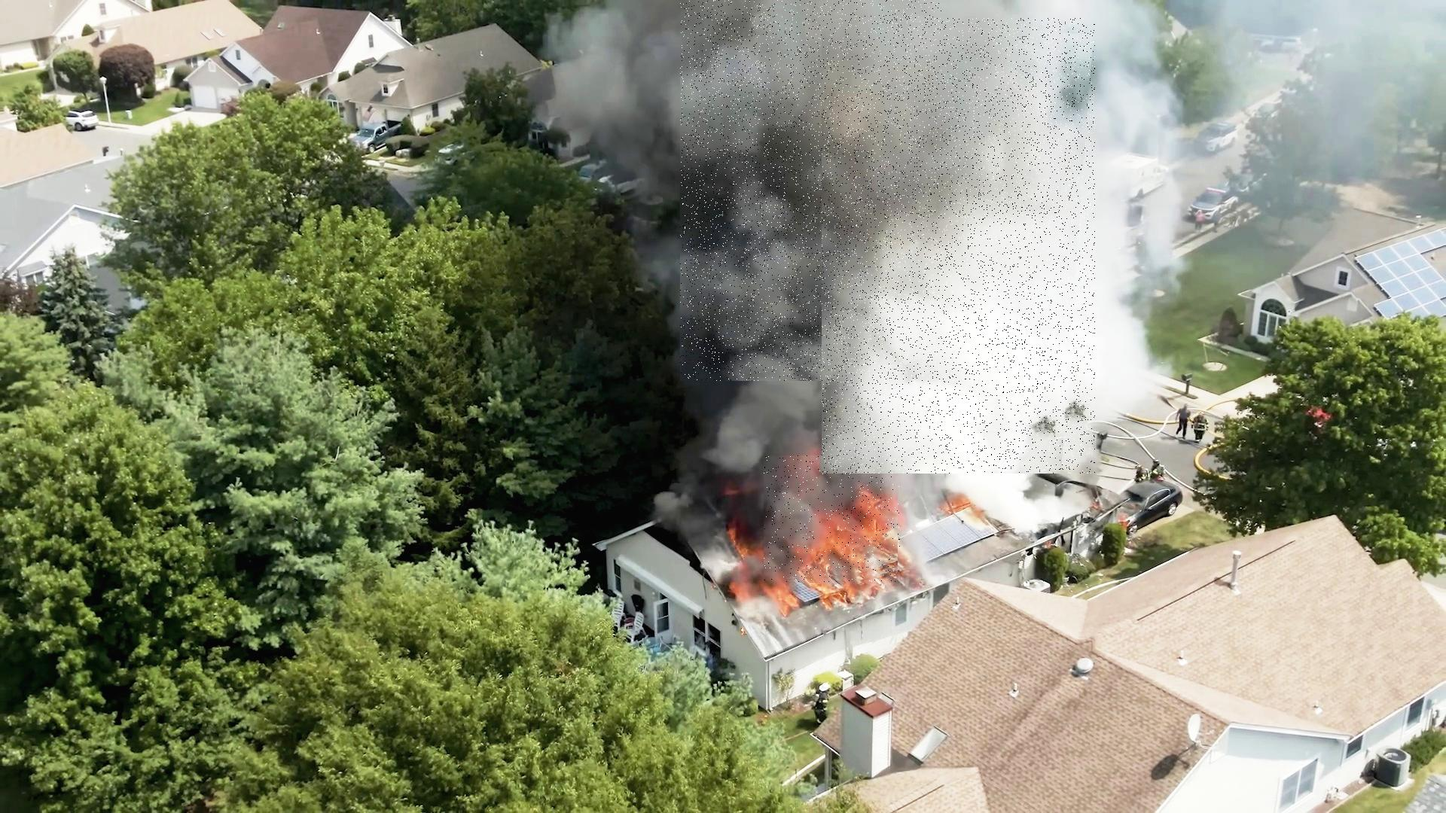fire: (764, 456, 901, 583)
smoke: (822, 18, 1096, 474), (680, 0, 941, 381)
